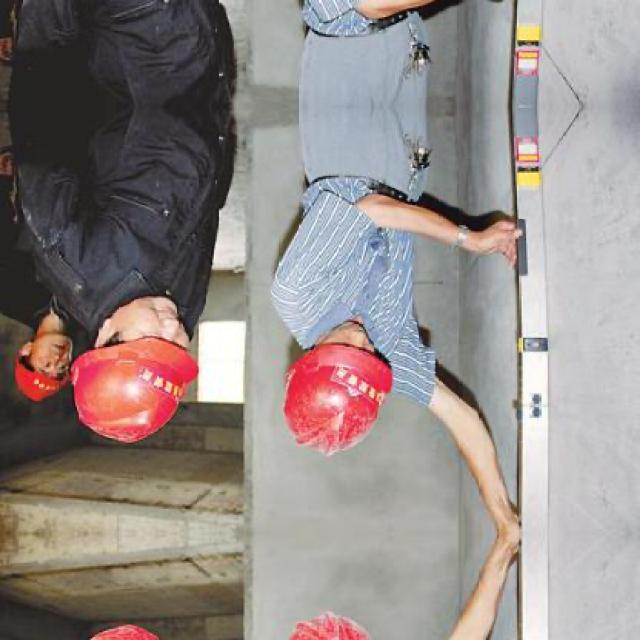con casco: (261, 304, 439, 480), (65, 329, 199, 435), (4, 343, 64, 410)
